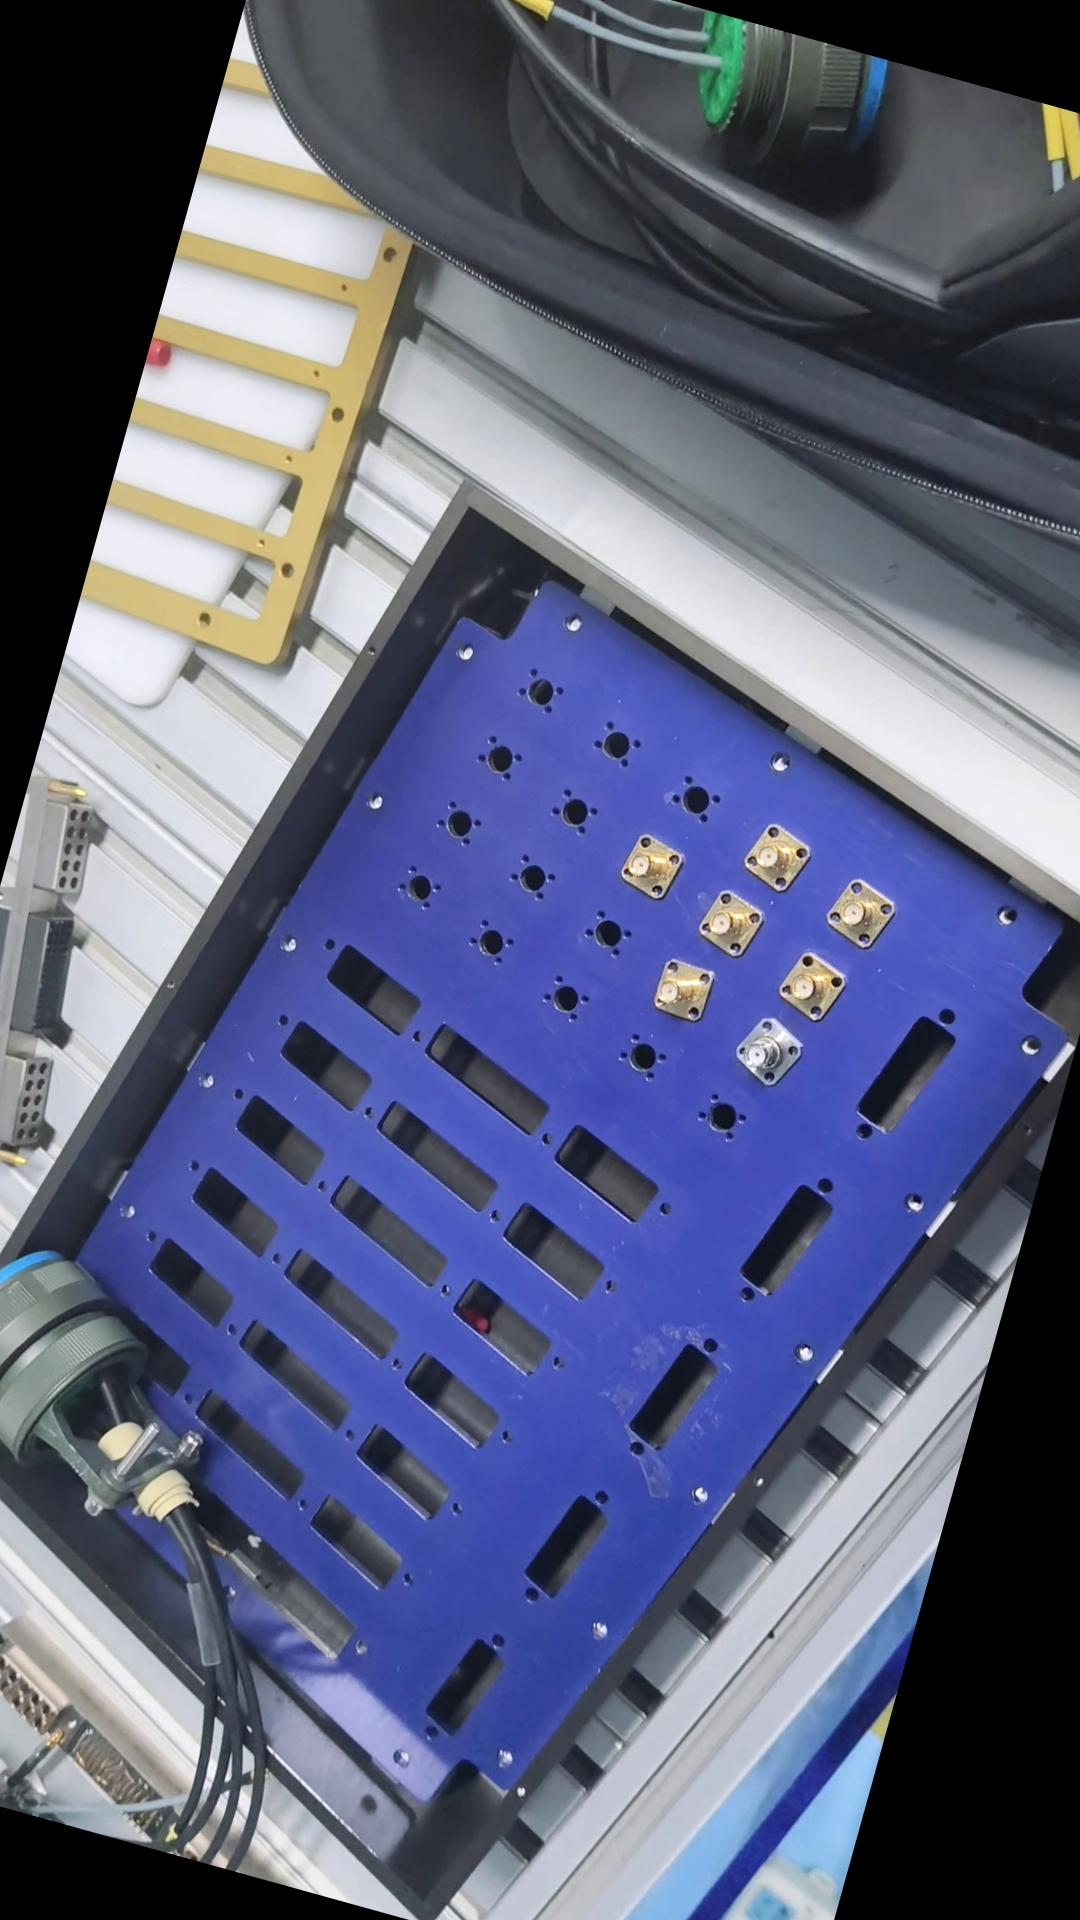SMA: (731, 812, 815, 895), (820, 866, 899, 949), (773, 942, 851, 1022), (640, 953, 720, 1029), (687, 886, 769, 959), (607, 829, 682, 905), (731, 1013, 806, 1083)
